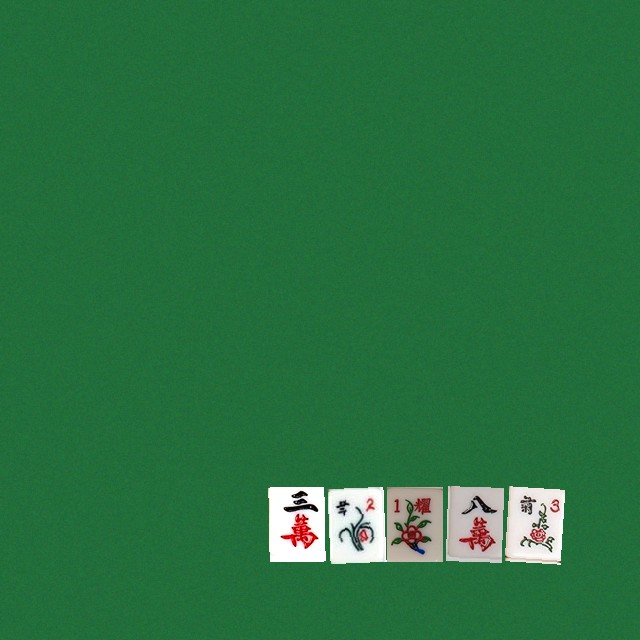tile: (268, 486, 324, 561), (327, 486, 383, 561), (386, 486, 442, 561), (445, 486, 501, 561), (504, 486, 560, 561)
